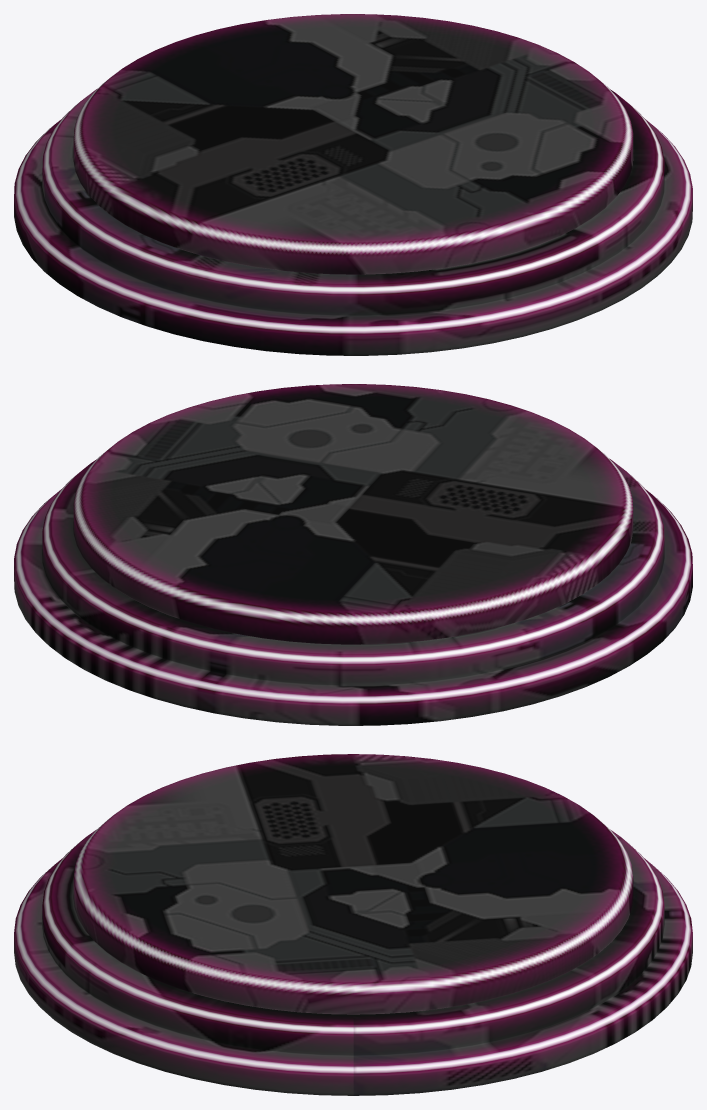
The picture shows the model from 3 angles, top to bottom: view 1: azimuth 30°, elevation 25°; view 2: azimuth 150°, elevation 25°; view 3: azimuth 270°, elevation 25°; orthographic projection.
Parts seen in each view (by area): view 1: StandPink; view 2: StandPink; view 3: StandPink.
Boxes of the visible parts, box(x1,y1,x2,y2) form: StandPink: box(14, 14, 692, 355); StandPink: box(14, 384, 692, 725); StandPink: box(14, 754, 692, 1095).
Size of the model in its own units: 0.4379 by 0.06 by 0.4379.
1 material, 1 textured.
